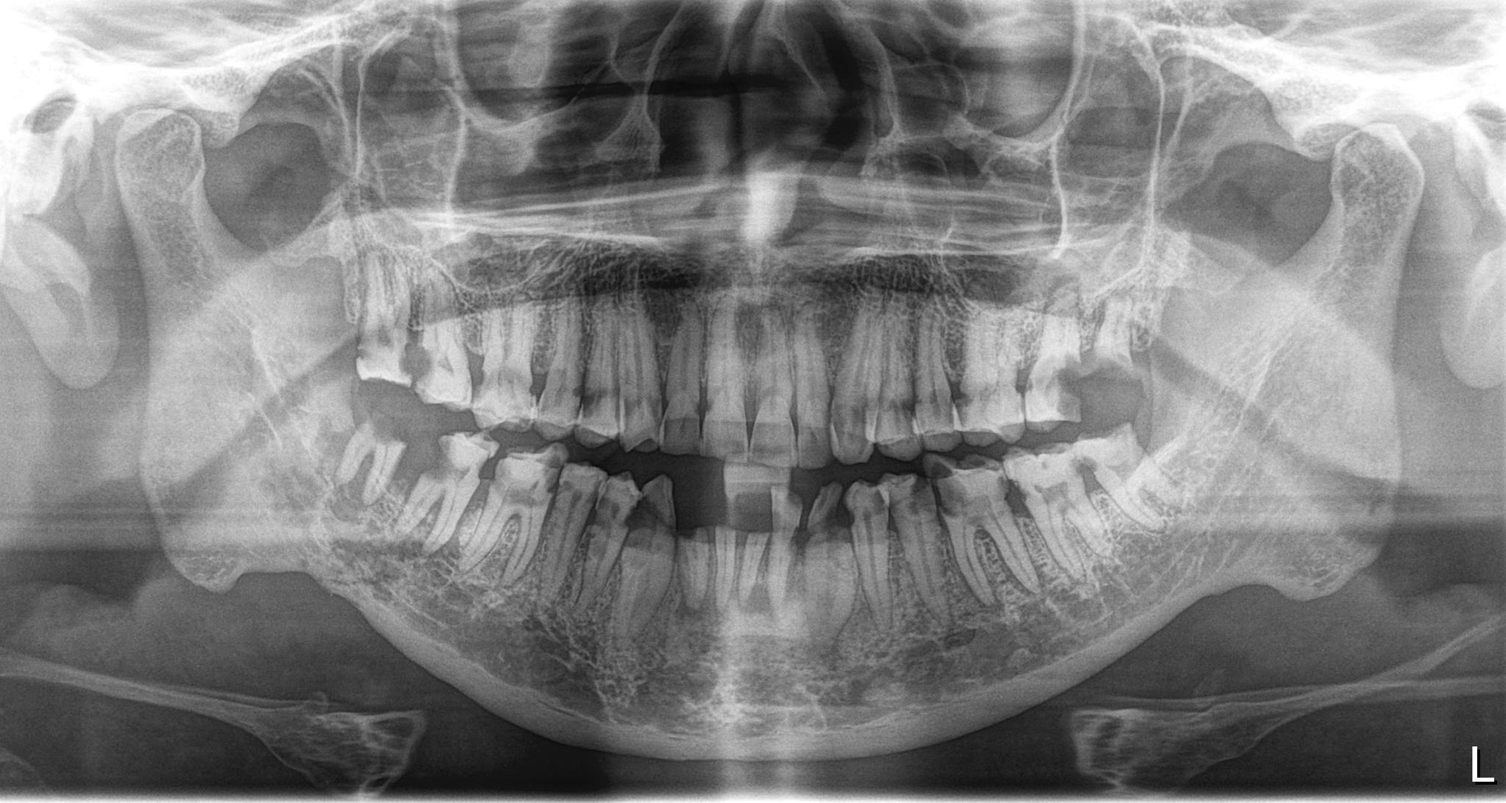Dental Caries: (1085, 310, 1143, 410), (1033, 356, 1091, 406), (408, 444, 470, 484), (403, 342, 449, 381), (623, 500, 664, 540), (813, 503, 864, 532), (506, 487, 554, 509)
Impacted Third Molar: (333, 408, 402, 507)
Retained Root: (768, 481, 813, 634), (724, 501, 760, 618), (688, 501, 713, 613)
